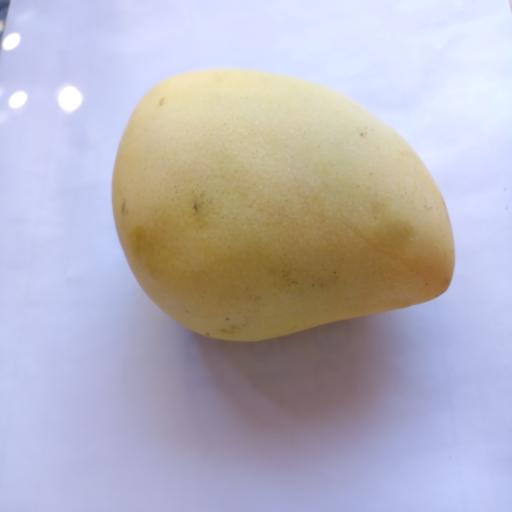mango-ripe: (90, 45, 469, 368)
